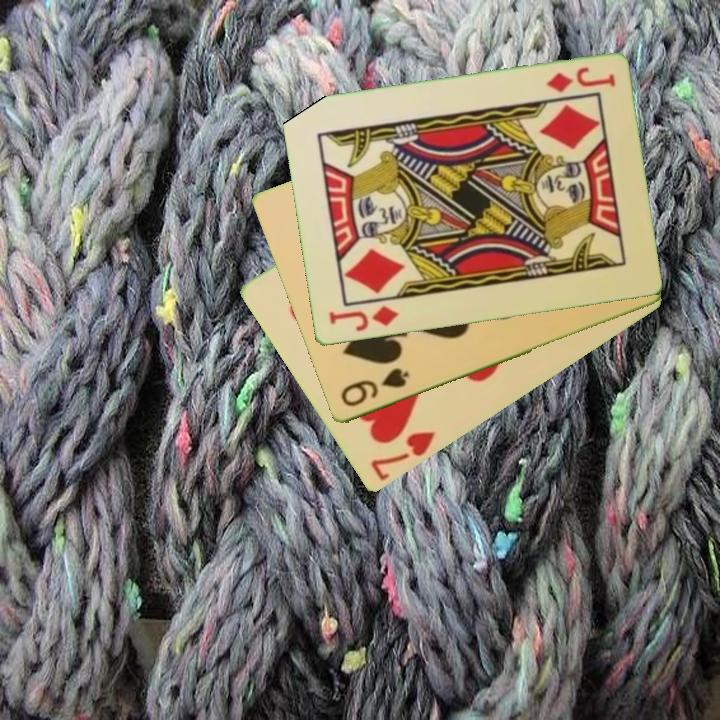7h: (367, 428, 438, 484)
9s: (337, 365, 412, 411)
Jd: (325, 302, 400, 335), (543, 63, 618, 96)
